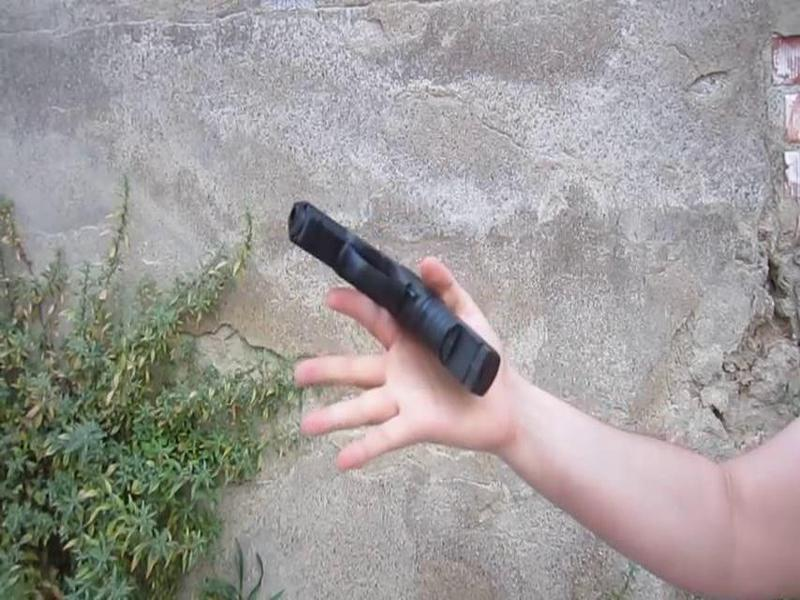Pistola: (283, 174, 514, 406)
